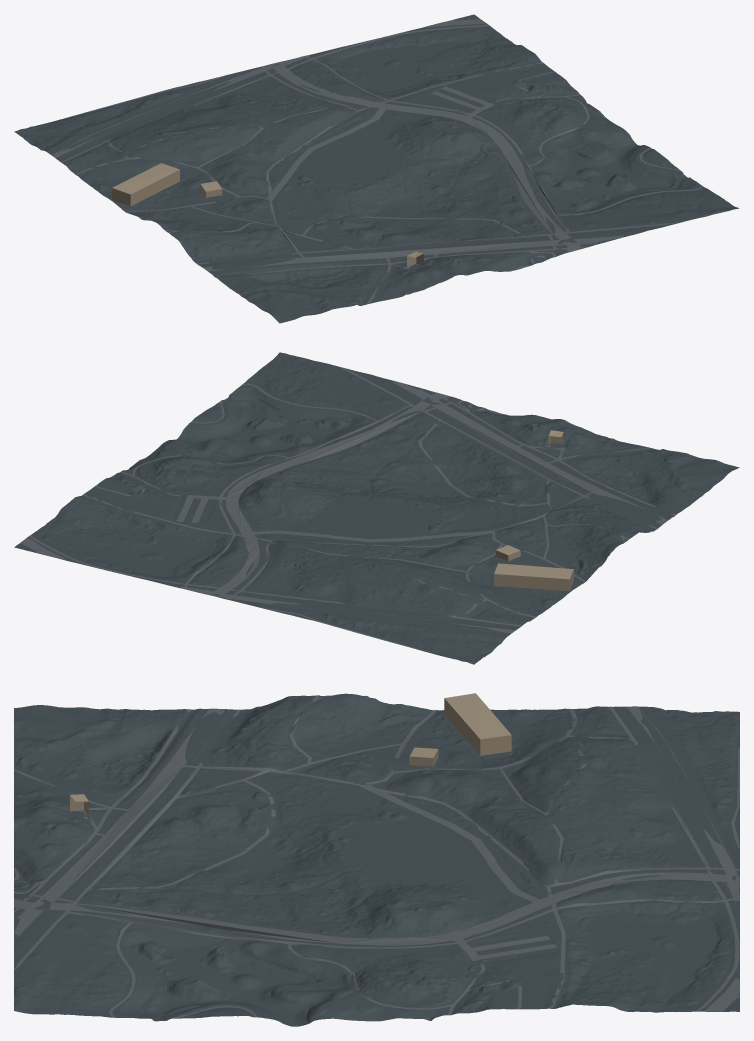
Rendered from epsg26910-1416-10885.lod0.glb.
The picture shows the model from 3 angles, top to bottom: view 1: azimuth 30°, elevation 25°; view 2: azimuth 150°, elevation 25°; view 3: azimuth 270°, elevation 25°; orthographic projection. The views are drawn at different scales.
Parts seen in each view (by area): view 1: epsg26910-1416-10885-lod0; view 2: epsg26910-1416-10885-lod0; view 3: epsg26910-1416-10885-lod0.
Part boxes in pixels (<box>): epsg26910-1416-10885-lod0: <box>14,14,739,323</box>; epsg26910-1416-10885-lod0: <box>14,352,739,664</box>; epsg26910-1416-10885-lod0: <box>14,693,739,1026</box>.
Size of the model in its own units: 384 by 17.45 by 384.
